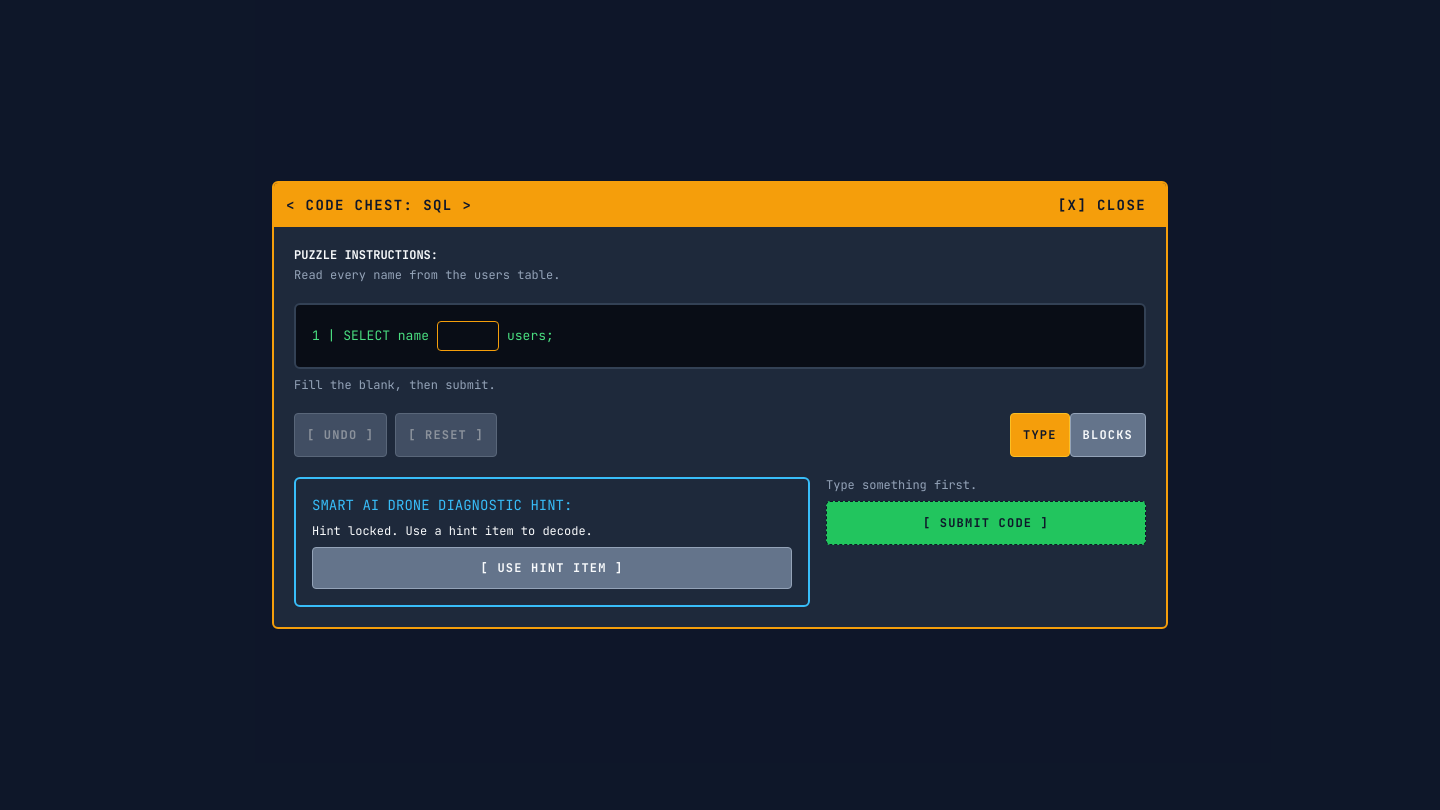
Test: ChallengeTerminal: Blocks mode, Undo and Reset › switching modes ends a typing run
Type "a" into the field named "answer" at (468, 336), box [437,321,499,351]
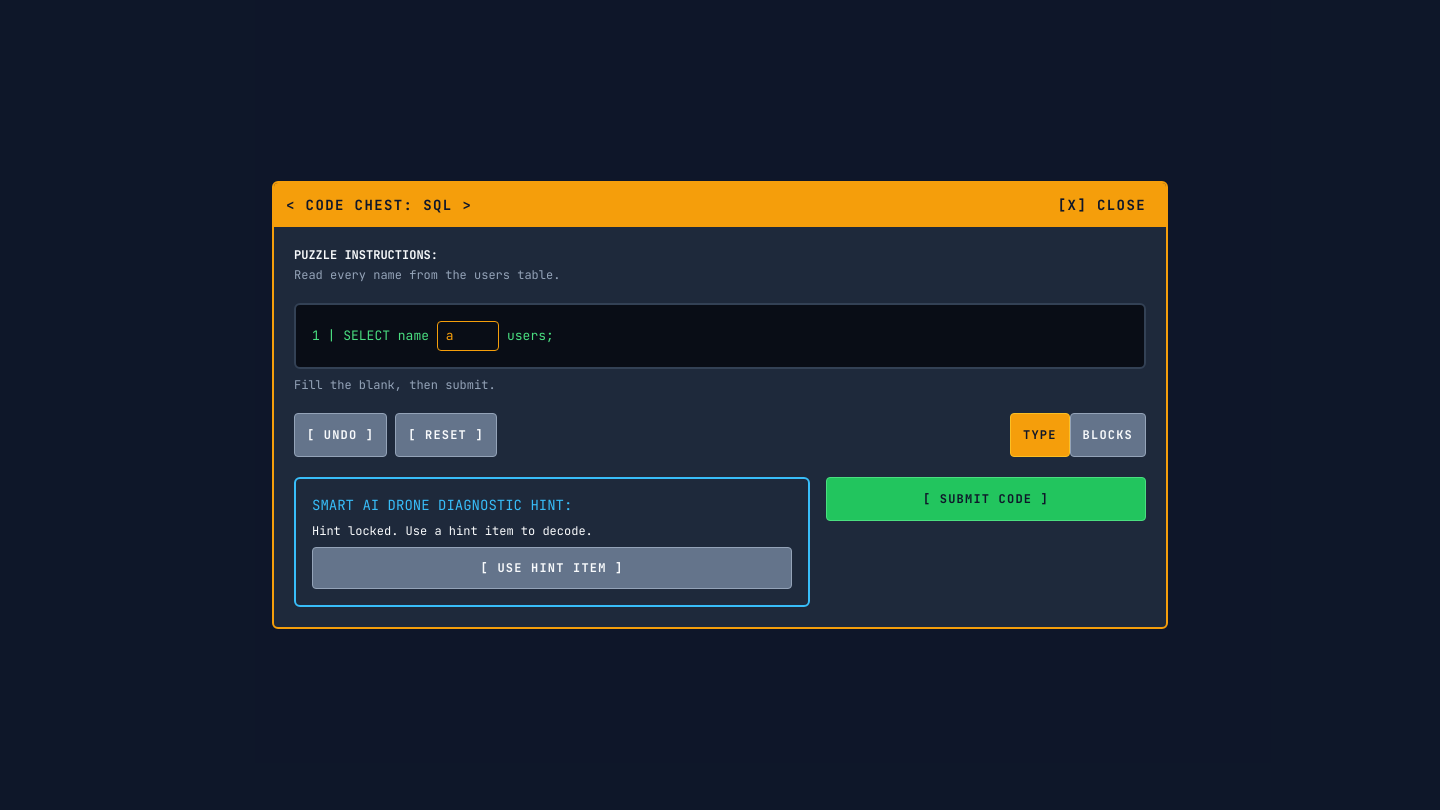
Click the button "Blocks" at (1108, 435), box [1070,413,1146,457]
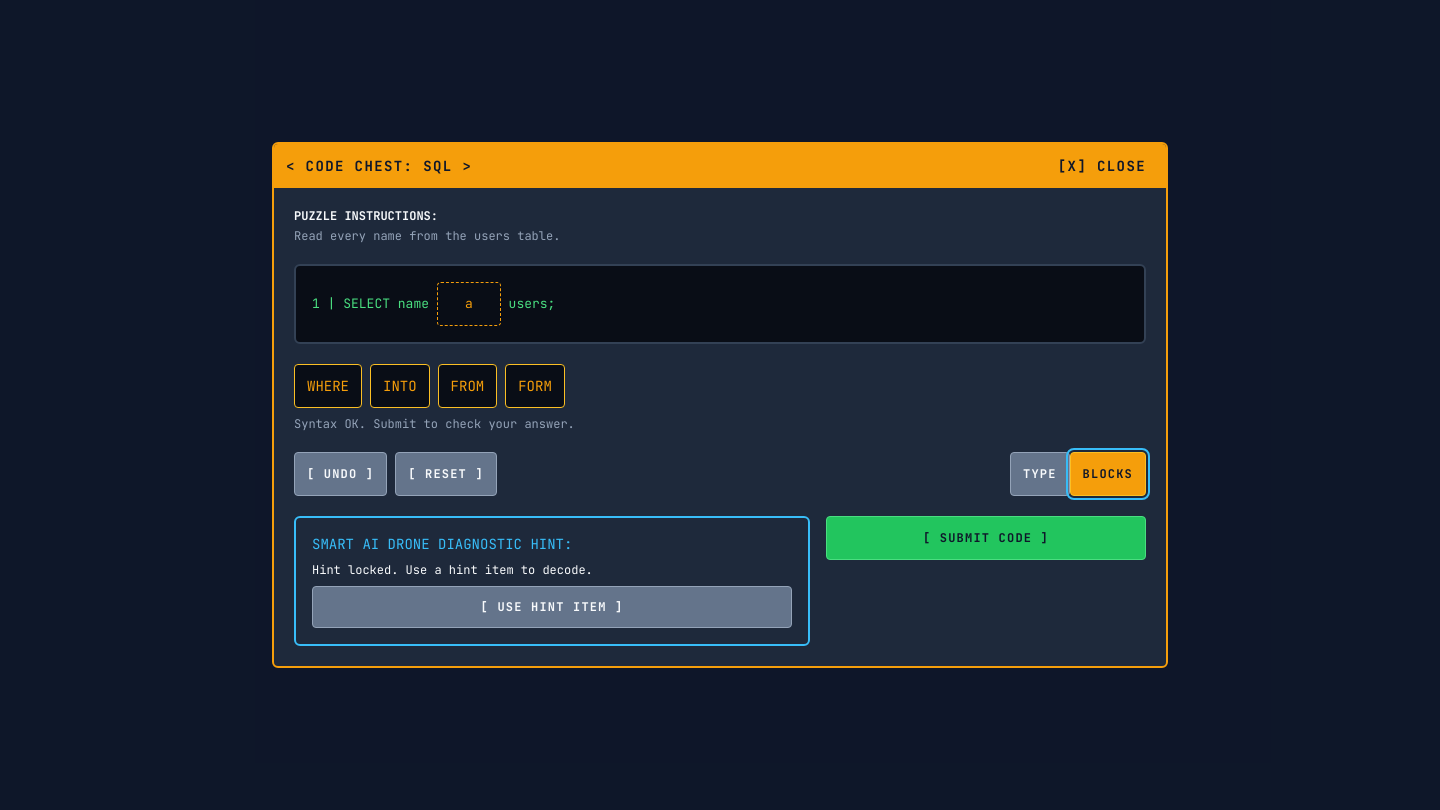
Click the button "Type" at (1040, 474), box [1010,452,1070,496]
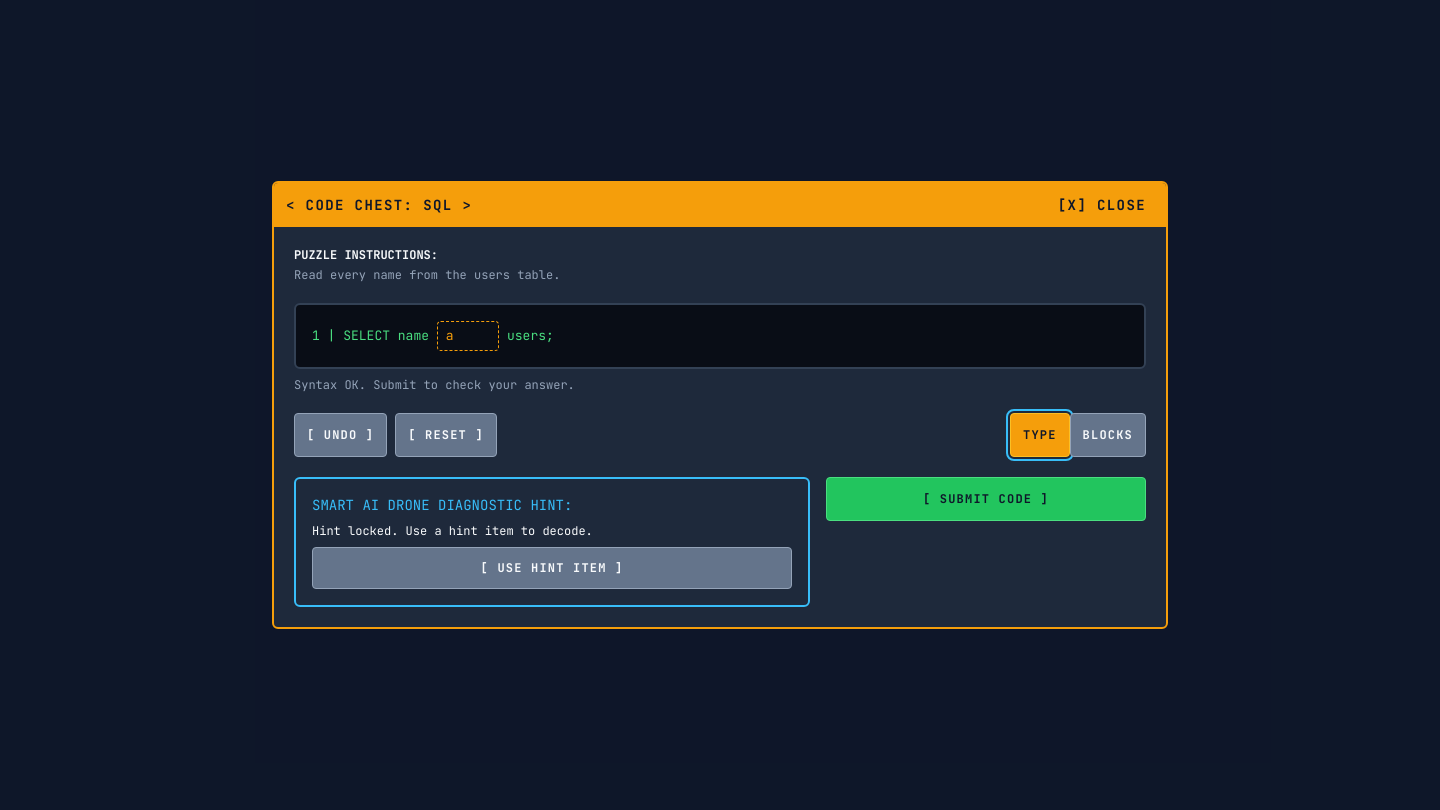
Type "b" into the field named "answer" at (468, 336), box [437,321,499,351]
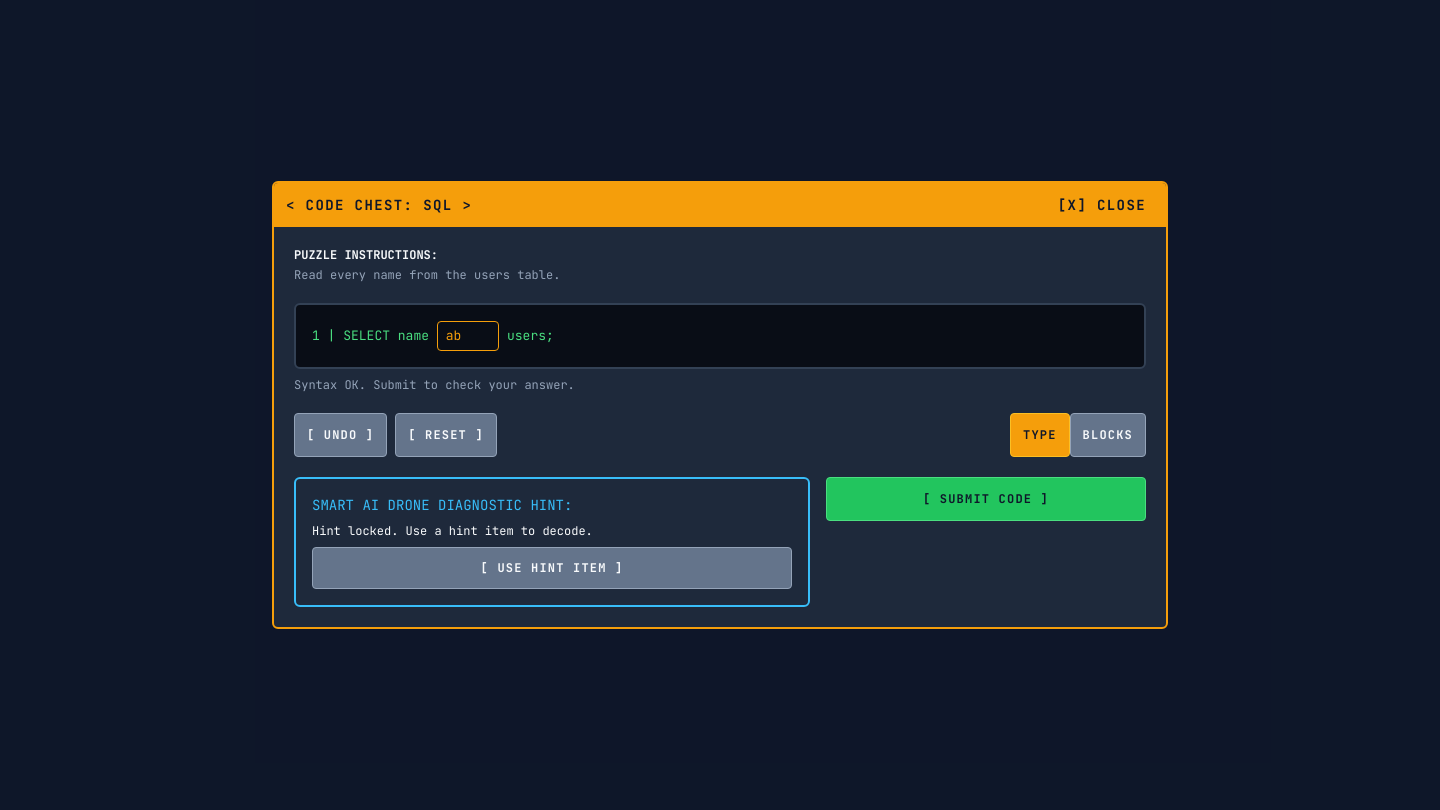
Click the button "[ UNDO ]" at (341, 435), box [294,413,387,457]
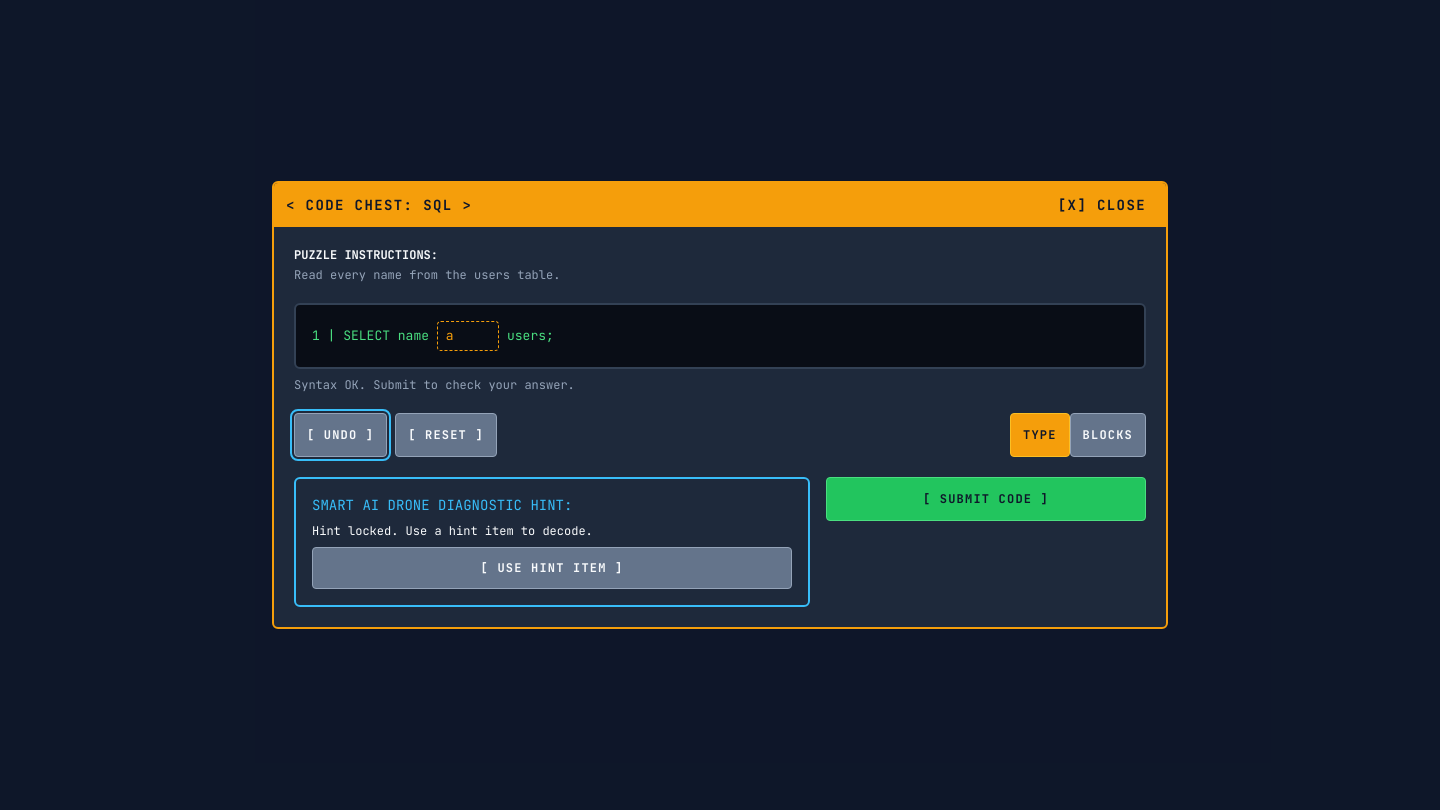
Expected: the field named "answer" holds "a", [437,321,499,351]
